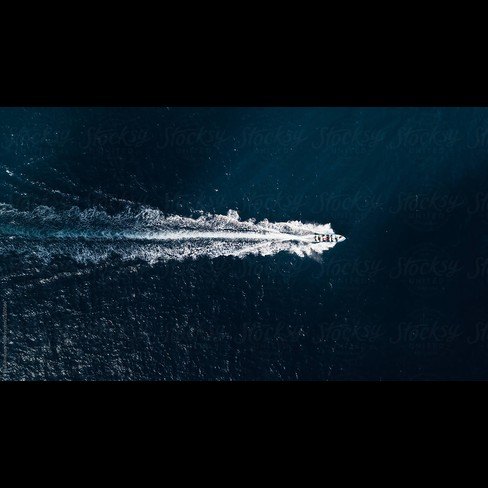boat: (304, 228, 352, 248)
